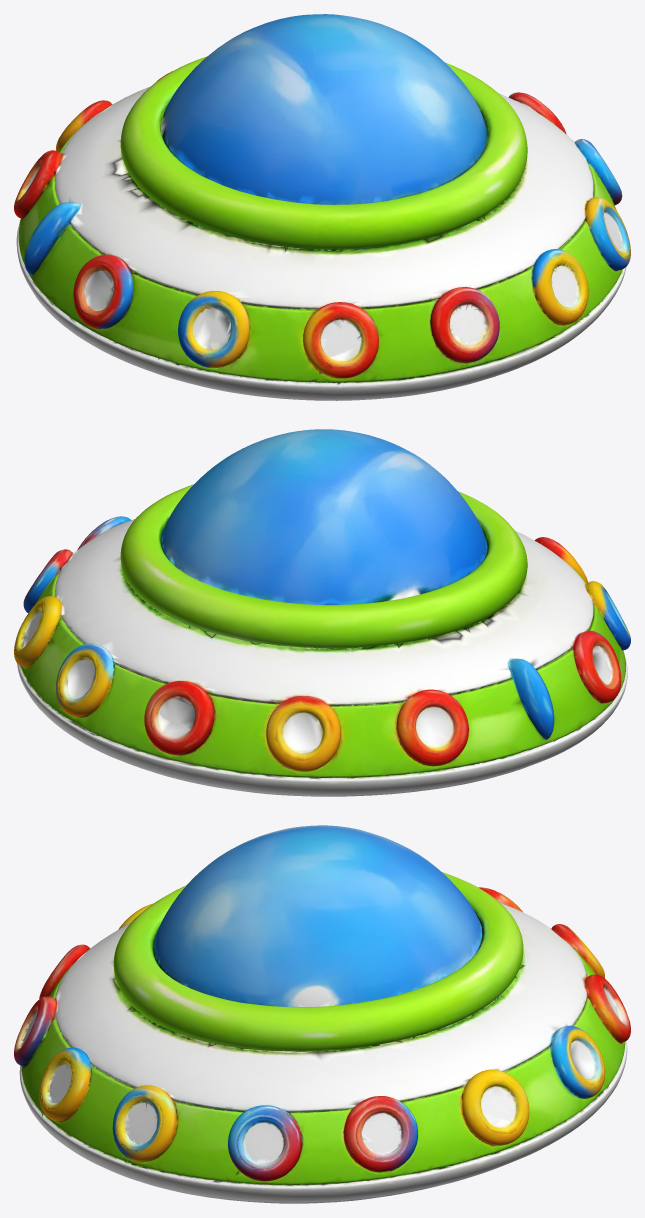
File: ovni2-3d.glb
3 renders of one model, top to bottom at view 1: azimuth 30°, elevation 25°; view 2: azimuth 150°, elevation 25°; view 3: azimuth 270°, elevation 25°, orthographic.
Visible parts, largest first — view 1: tripo_node_9f97f931-c95b-4a3e-86b4-7085fbfda107; view 2: tripo_node_9f97f931-c95b-4a3e-86b4-7085fbfda107; view 3: tripo_node_9f97f931-c95b-4a3e-86b4-7085fbfda107.
Part boxes in pixels (<box>): tripo_node_9f97f931-c95b-4a3e-86b4-7085fbfda107: <box>14,14,630,400</box>; tripo_node_9f97f931-c95b-4a3e-86b4-7085fbfda107: <box>14,429,630,796</box>; tripo_node_9f97f931-c95b-4a3e-86b4-7085fbfda107: <box>14,825,630,1203</box>.
Bounding box in the file's own units: 0.9776 × 0.4923 × 0.9796.
1 material, 1 textured.
